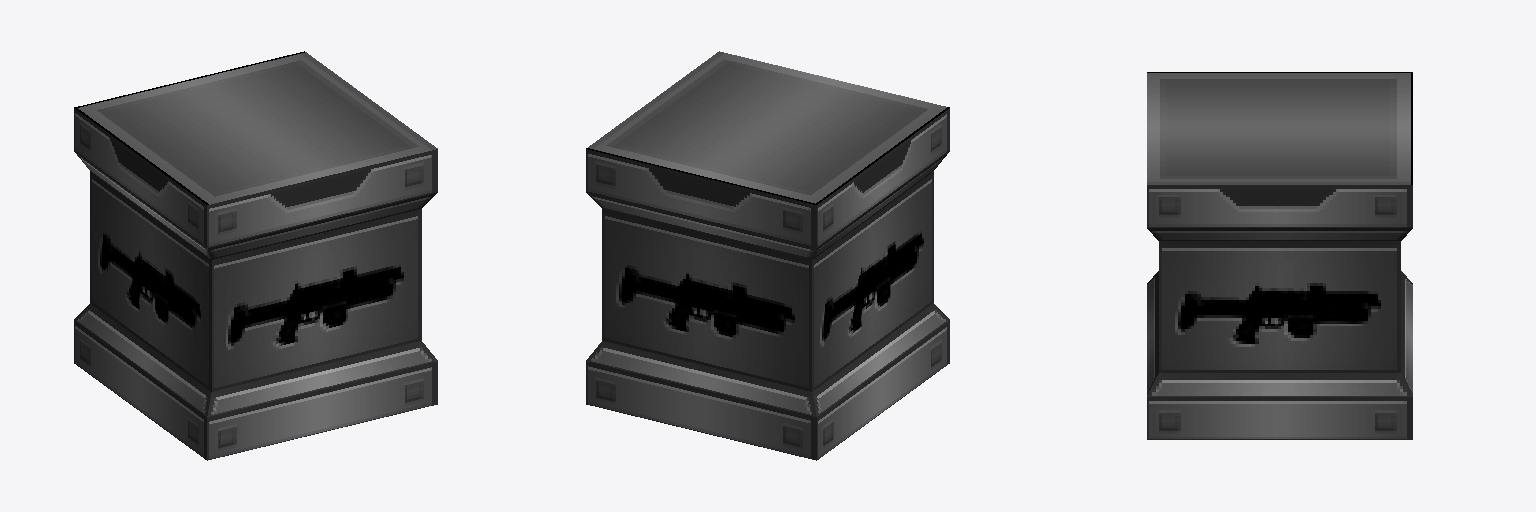
3 renders of one model, left to right at view 1: azimuth 30°, elevation 25°; view 2: azimuth 150°, elevation 25°; view 3: azimuth 270°, elevation 25°, orthographic.
Visible parts, largest first — view 1: Cube.001_Cube.000; view 2: Cube.001_Cube.000; view 3: Cube.001_Cube.000.
Part boxes in pixels (bbox=[...]): Cube.001_Cube.000: bbox=[74, 51, 437, 460]; Cube.001_Cube.000: bbox=[586, 51, 949, 460]; Cube.001_Cube.000: bbox=[1147, 72, 1412, 439].
Size of the model in its own units: 2.2 by 2.32 by 2.2.
1 materials, 1 textured.